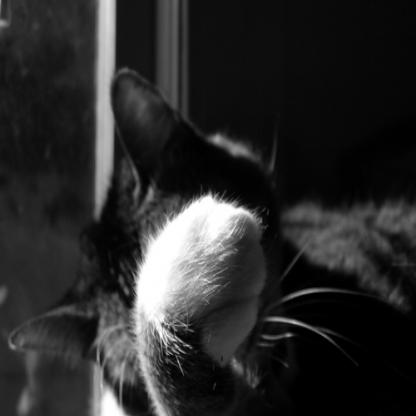cat: (7, 66, 415, 414)
